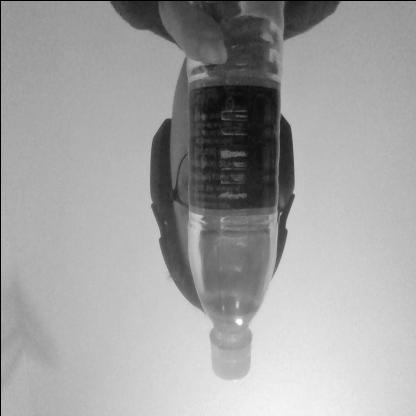plastic_bottles: (183, 0, 285, 382)
